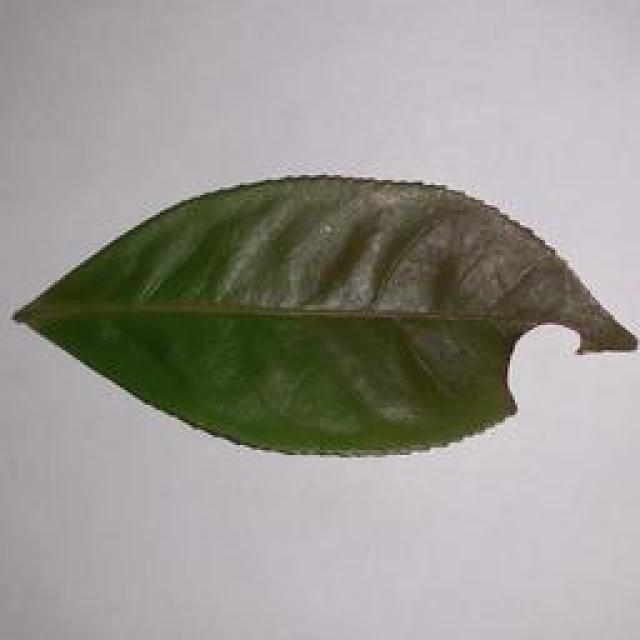Red Leaf Spot: (18, 174, 630, 475)
